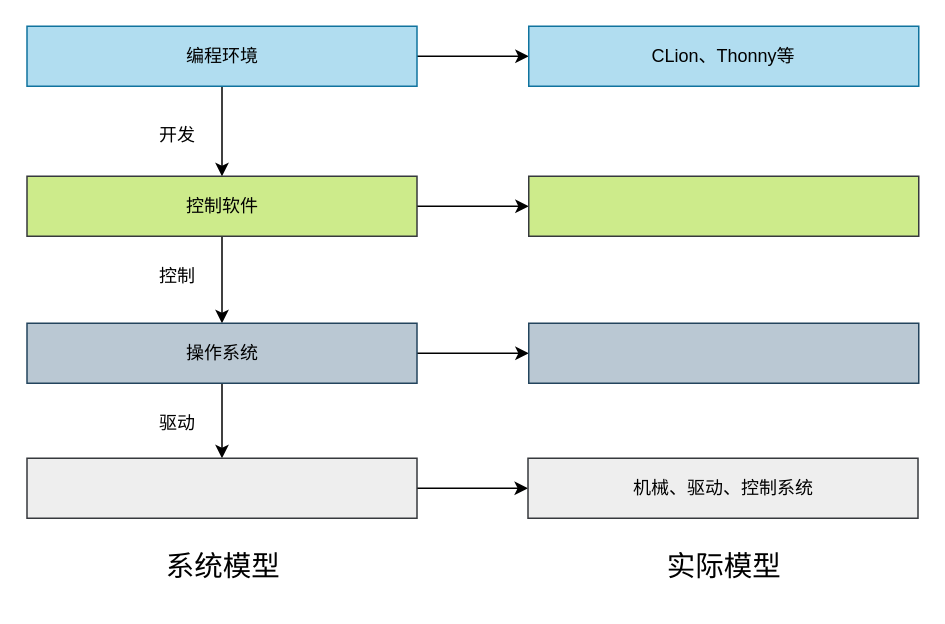
Image size: 945x624. Some labels were removed from this diagram. The shapes that lost their labels are listed below. From the top down, each one's centre as x and y in pixels, then its label:
At point (723, 205): "客户端、网页端等".
At point (723, 352): "MicroPython".
At point (221, 487): "硬件系统".
